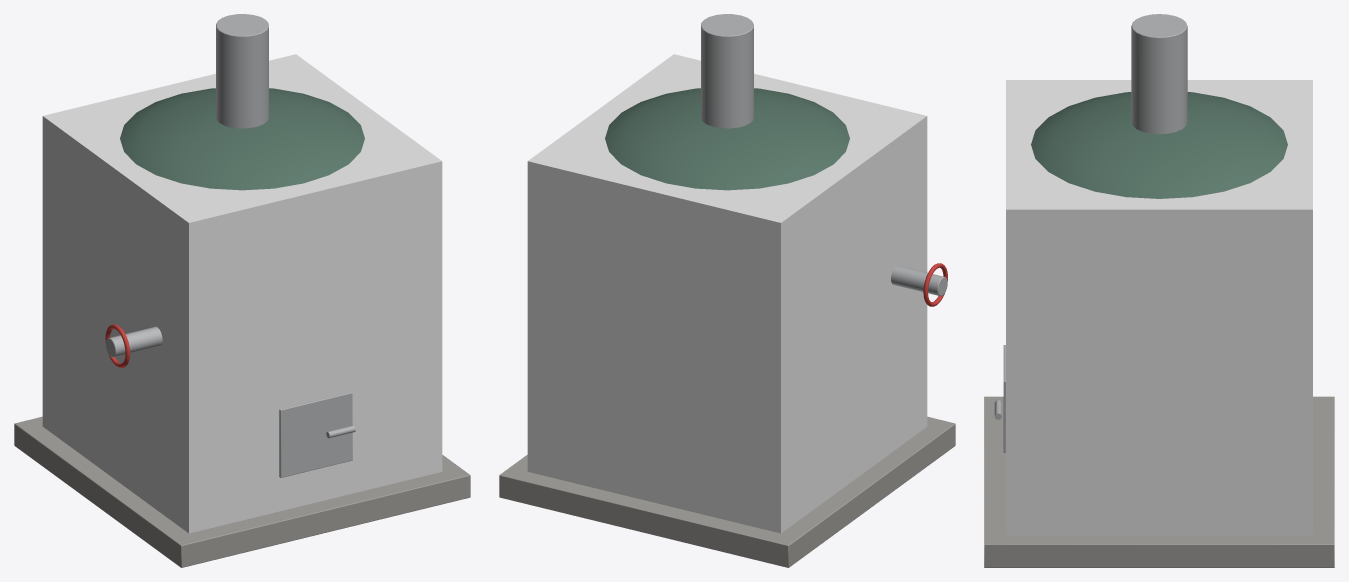
The model's file is boiler.mobile.glb.
The picture shows the model from 3 angles, left to right: view 1: azimuth 30°, elevation 25°; view 2: azimuth 150°, elevation 25°; view 3: azimuth 270°, elevation 25°; orthographic projection. The views are drawn at different scales.
Visible parts, largest first — view 1: COL_Boiler, Boiler; view 2: COL_Boiler, Boiler; view 3: COL_Boiler, Boiler.
Part boxes in pixels (left/top/right/bottom): COL_Boiler: left=42, top=54, right=442, bottom=533; Boiler: left=14, top=14, right=470, bottom=567; COL_Boiler: left=527, top=54, right=927, bottom=533; Boiler: left=499, top=14, right=955, bottom=567; COL_Boiler: left=1006, top=80, right=1312, bottom=535; Boiler: left=984, top=14, right=1334, bottom=567.
Bounding box in the file's own units: 2.2 × 2.95 × 2.
